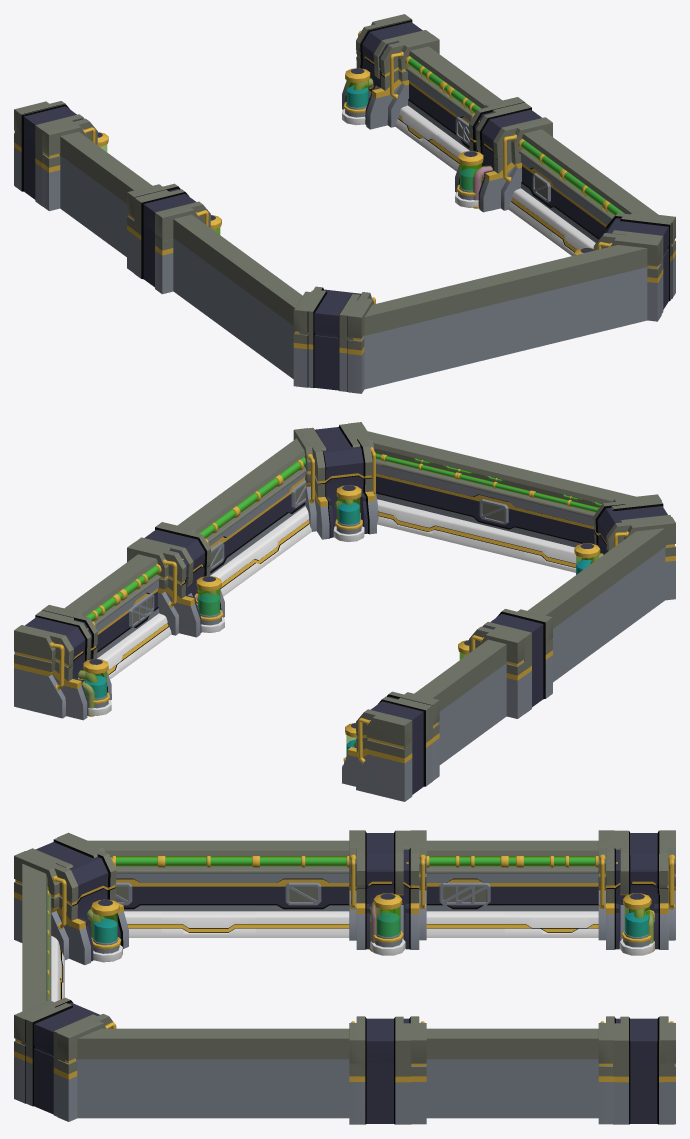
File: Level3.fbx
3 views of the same model, one above another, from view 1: azimuth 30°, elevation 25°; view 2: azimuth 150°, elevation 25°; view 3: azimuth 270°, elevation 25° (orthographic). The views are drawn at different scales.
Parts seen in each view (by area): view 1: Base (×31), Bottle (×2); view 2: Base (×30), Bottle (×3), Cage; view 3: Base (×29), Pipe1 (×11), Bottle (×4), Cage (×3).
Boxes of the visible parts, x1,y1,x2,y2 form: Base (×31): [14, 14, 675, 393]; Bottle (×2): [342, 68, 483, 207]; Base (×30): [14, 422, 675, 801]; Bottle (×3): [83, 485, 364, 715]; Cage: [479, 499, 508, 524]; Base (×29): [14, 830, 675, 1124]; Pipe1 (×11): [111, 856, 598, 867]; Bottle (×4): [91, 893, 654, 962]; Cage (×3): [285, 882, 490, 905].
Size of the model in its own units: 385 by 73.12 by 513.
